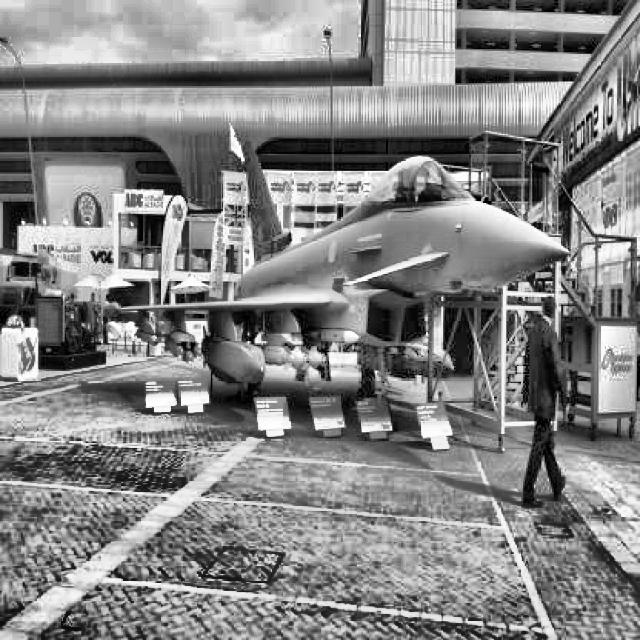EF2000: (103, 137, 572, 406)
